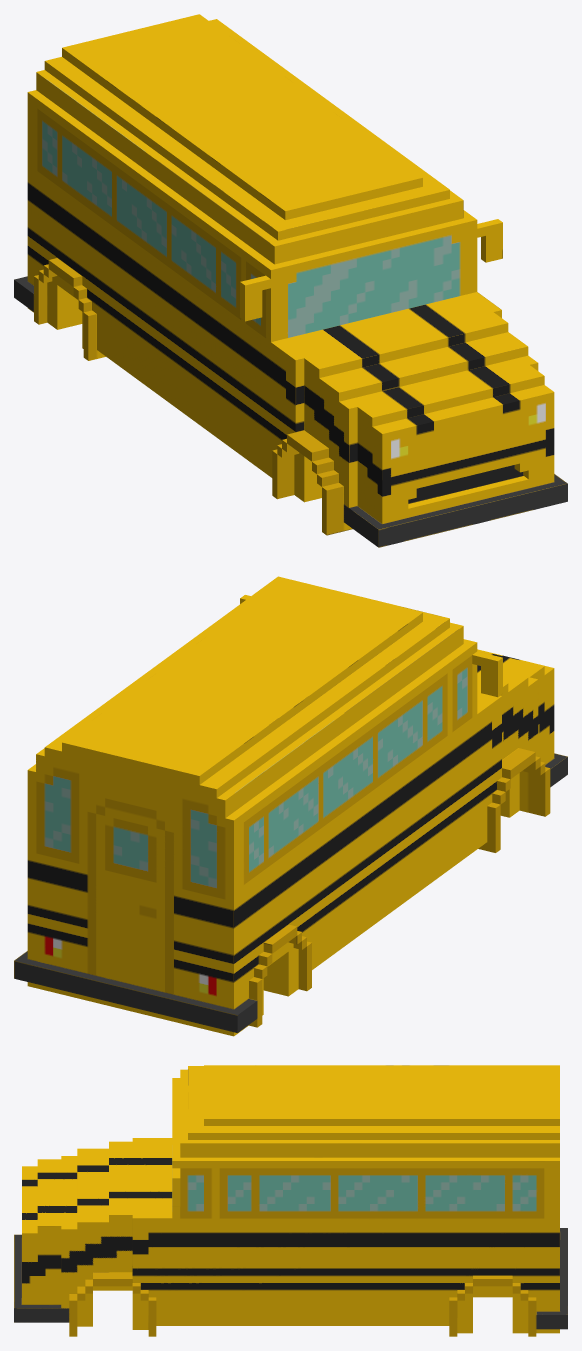
File: School_Bus_1.obj
The picture shows the model from 3 angles, top to bottom: view 1: azimuth 30°, elevation 25°; view 2: azimuth 150°, elevation 25°; view 3: azimuth 270°, elevation 25°; orthographic projection. The views are drawn at different scales.
Visible parts, largest first — view 1: School_Bus_1_School_Bus_1.001; view 2: School_Bus_1_School_Bus_1.001; view 3: School_Bus_1_School_Bus_1.001.
Boxes of the visible parts, bbox=[...] form: School_Bus_1_School_Bus_1.001: bbox=[14, 14, 567, 547]; School_Bus_1_School_Bus_1.001: bbox=[14, 576, 567, 1036]; School_Bus_1_School_Bus_1.001: bbox=[14, 1065, 567, 1336].
Bounding box in the file's own units: 3 × 2.8 × 7.
